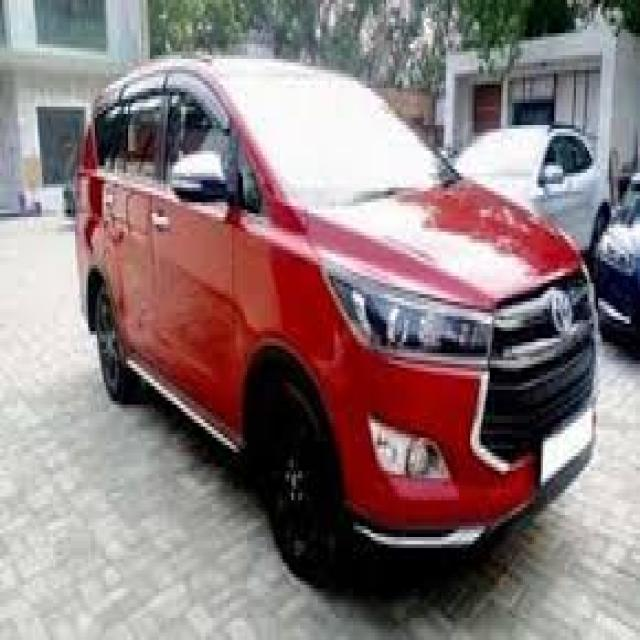light_vehicle: (75, 57, 598, 582)
